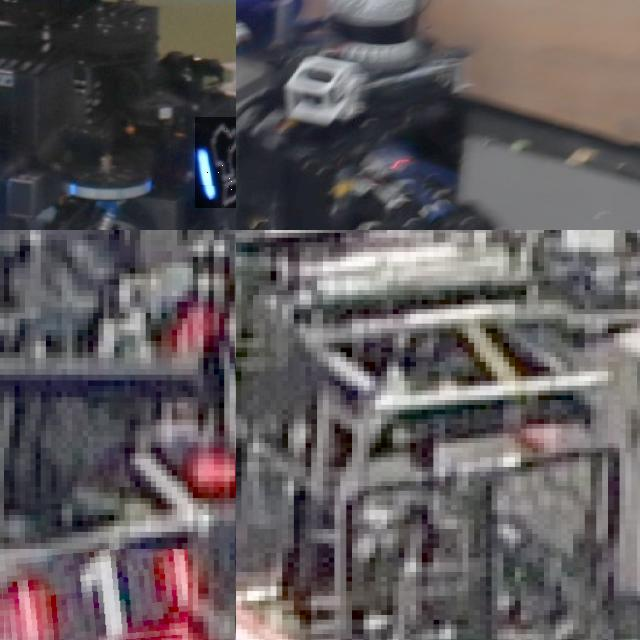Bs: (194, 117, 236, 208)
R1: (0, 549, 187, 640)
